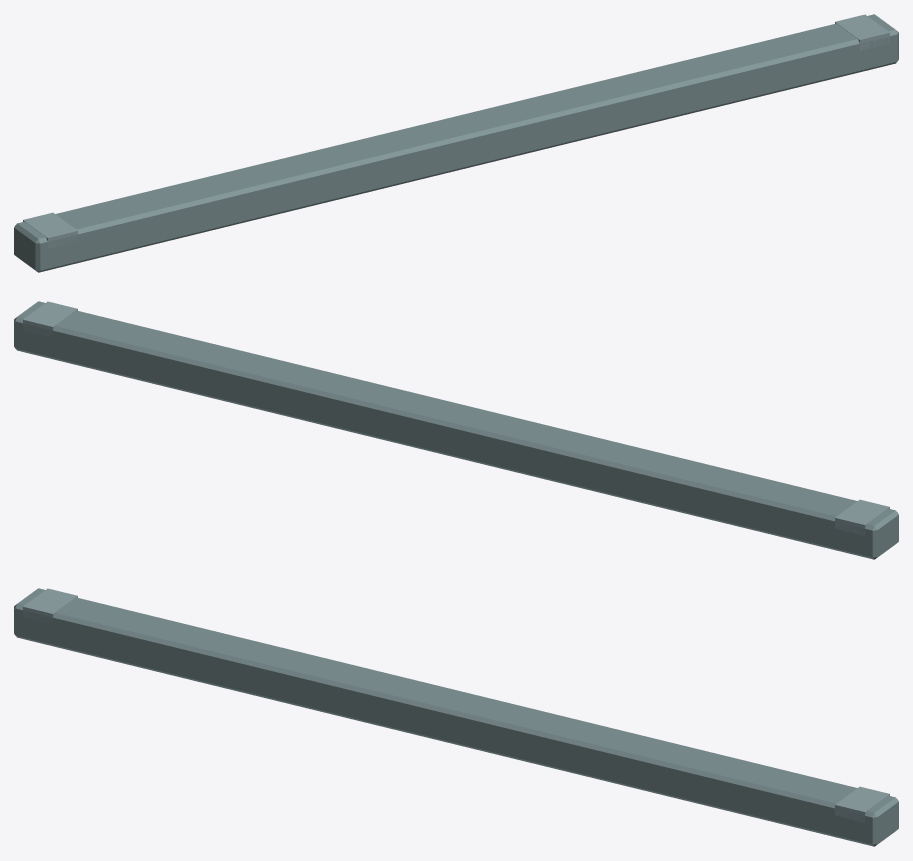
Rendered from RoadPlan_Drain_L2_RecessedChannel.glb.
3 renders of one model, top to bottom at view 1: azimuth 30°, elevation 25°; view 2: azimuth 150°, elevation 25°; view 3: azimuth 330°, elevation 25°, orthographic.
Parts seen in each view (by area): view 1: RoadPlan_Drain_L2_RecessedChannel; view 2: RoadPlan_Drain_L2_RecessedChannel; view 3: RoadPlan_Drain_L2_RecessedChannel.
Part boxes in pixels (x1,y1,x2,y2): RoadPlan_Drain_L2_RecessedChannel: [14, 14, 898, 272]; RoadPlan_Drain_L2_RecessedChannel: [14, 301, 898, 559]; RoadPlan_Drain_L2_RecessedChannel: [14, 588, 898, 846].
Bounding box in the file's own units: 2 × 0.0755 × 0.1.
